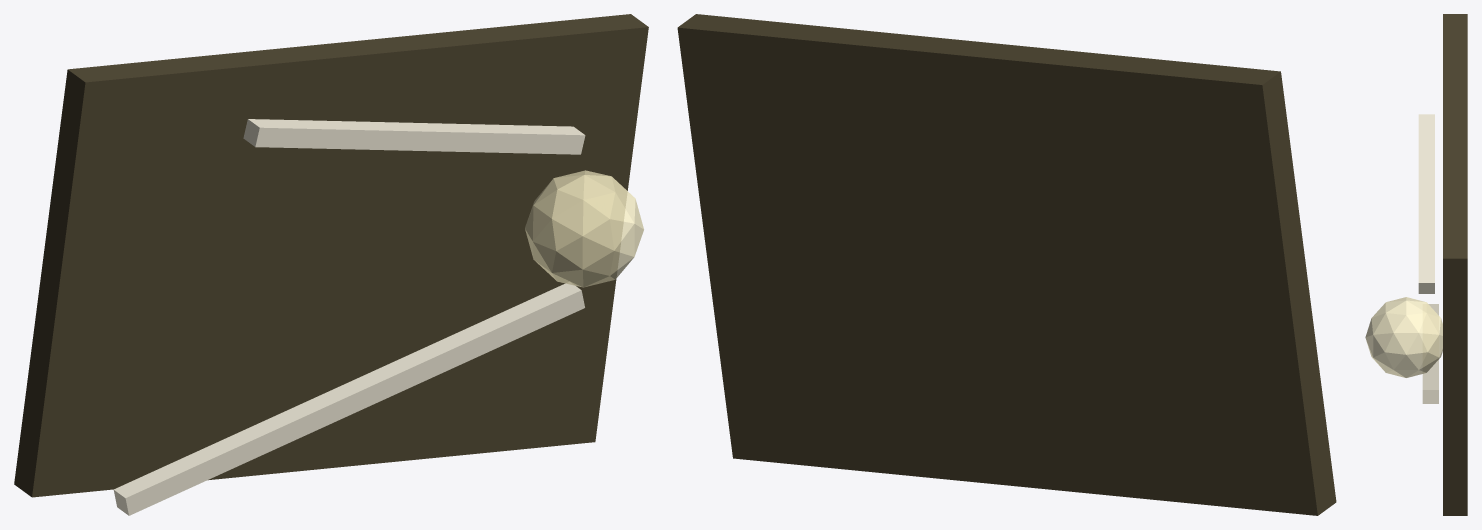
The model's file is 02_world_prop_polish.glb.
3 renders of one model, left to right at view 1: azimuth 30°, elevation 25°; view 2: azimuth 150°, elevation 25°; view 3: azimuth 270°, elevation 25°, orthographic. The views are drawn at different scales.
Visible parts, largest first — view 1: object_overlay_plate, edge_wear_a, glow_socket, edge_wear_b; view 2: object_overlay_plate; view 3: object_overlay_plate, glow_socket, edge_wear_b, edge_wear_a.
Part boxes in pixels (x1,y1,x2,y2): object_overlay_plate: (14,14,648,497); edge_wear_a: (113,282,584,515); glow_socket: (525,170,643,287); edge_wear_b: (243,119,585,154); object_overlay_plate: (677,14,1336,515); object_overlay_plate: (1443,14,1467,515); glow_socket: (1365,297,1442,377); edge_wear_b: (1418,114,1434,293); edge_wear_a: (1422,304,1438,403).
Bounding box in the file's own units: 1.19 × 0.8945 × 0.25.
